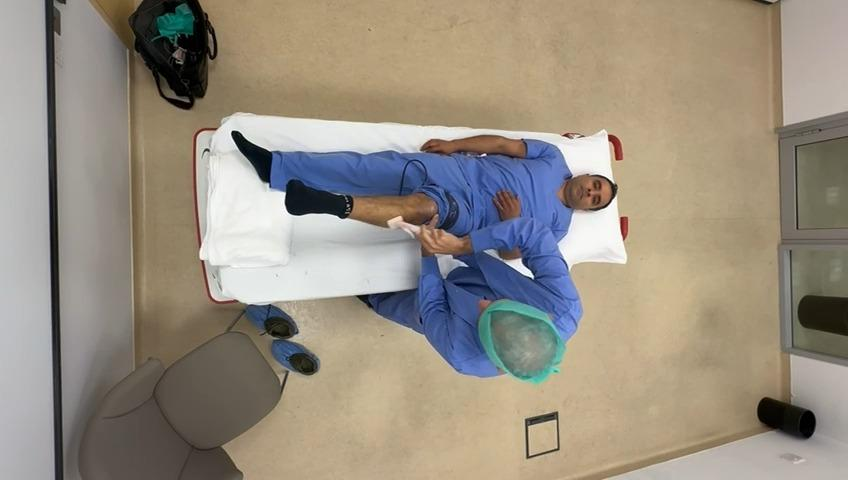bed: (192, 116, 626, 302)
patient: (232, 131, 616, 239)
prepstick: (388, 215, 420, 238)
tourniquet: (439, 190, 459, 229)
